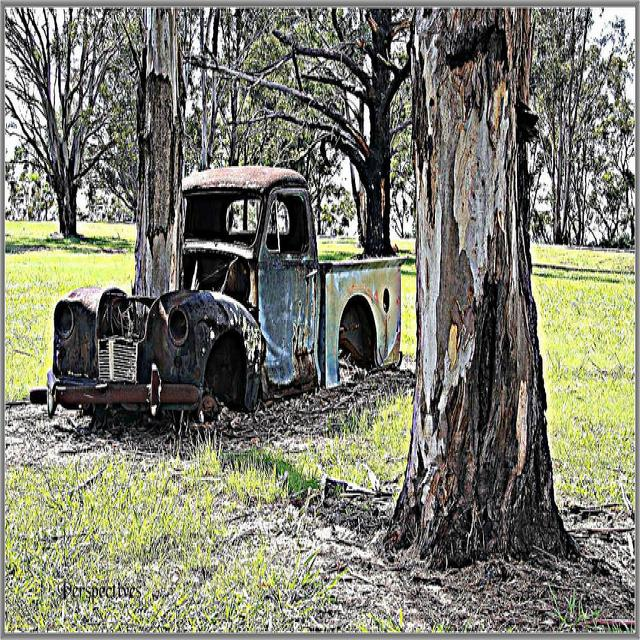Vehicle: (175, 158, 402, 427)
